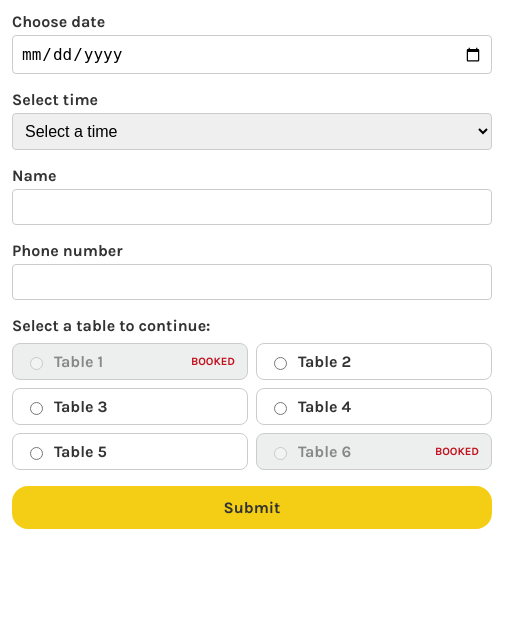
Test: BookingForm › shows validation errors when submitting an empty form
Click the button "Submit": (252, 508) [12,486,492,529]
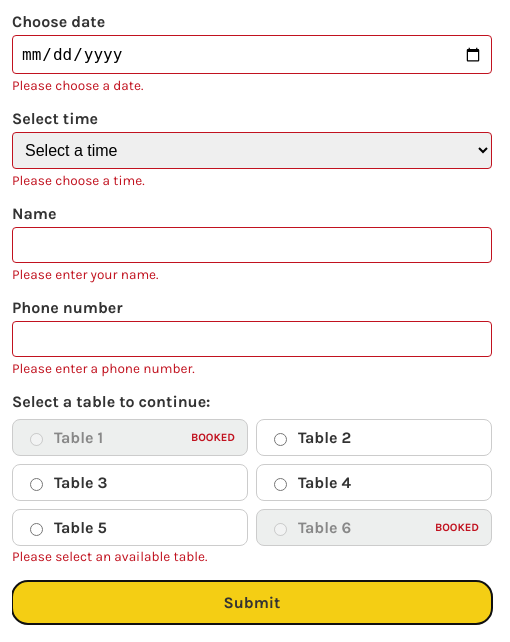
Expected: the message "Please choose a date." is shown, [12,78,143,93]
